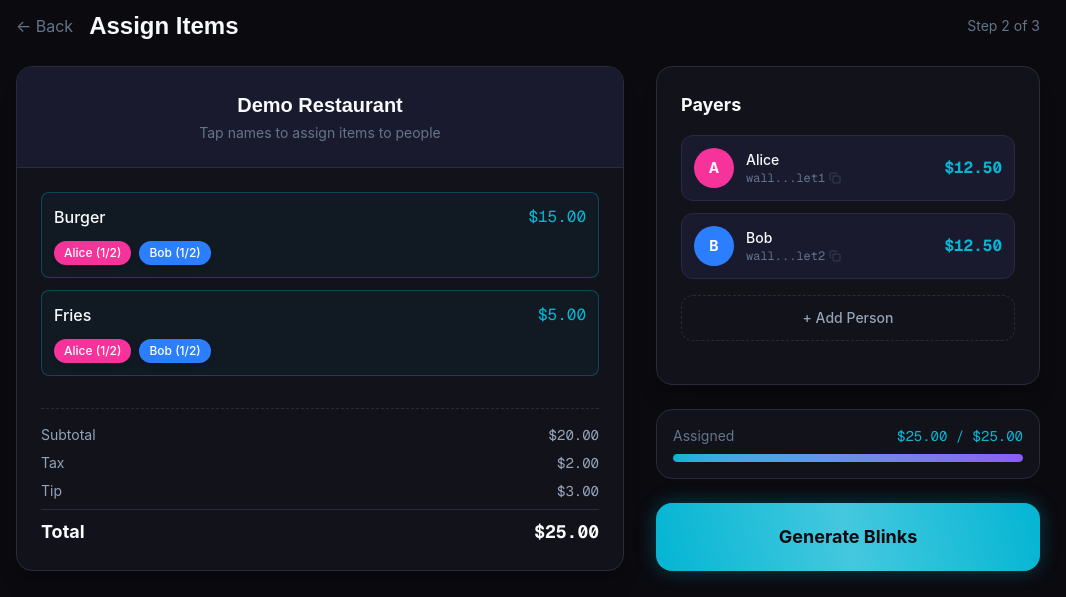
it: SplitPage › handles unassigning all people from an item
Check: the heading "Demo Restaurant" is shown, box x1=237 y1=94 x2=403 y2=116
Click the button "Alice (1/2)" below "Fries": [93, 351] box x1=54 y1=339 x2=131 y2=363
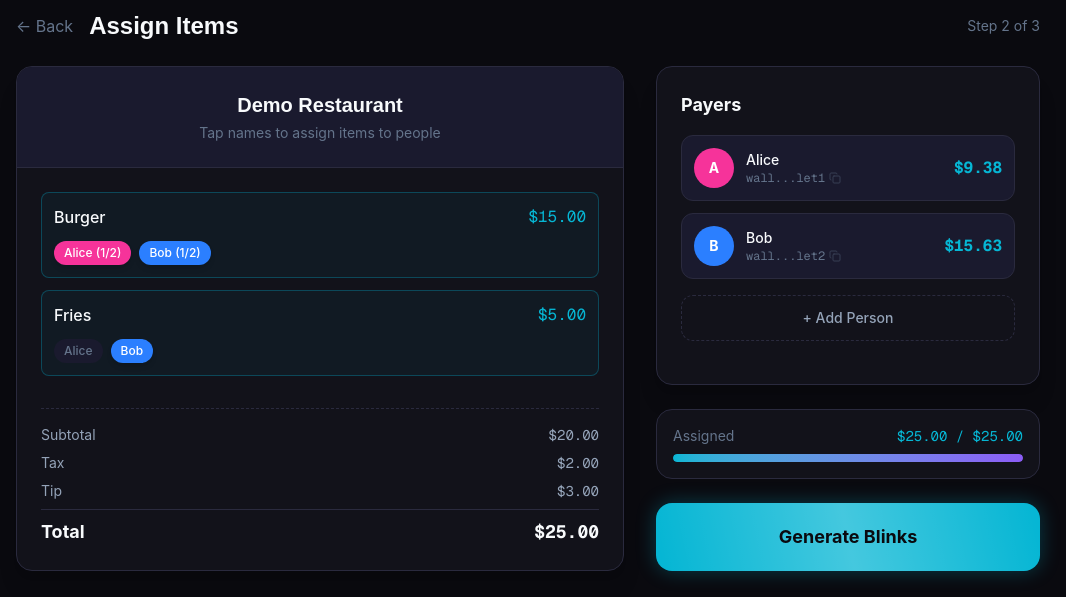
Click the button "Bob": [132, 351] box x1=110 y1=339 x2=153 y2=363
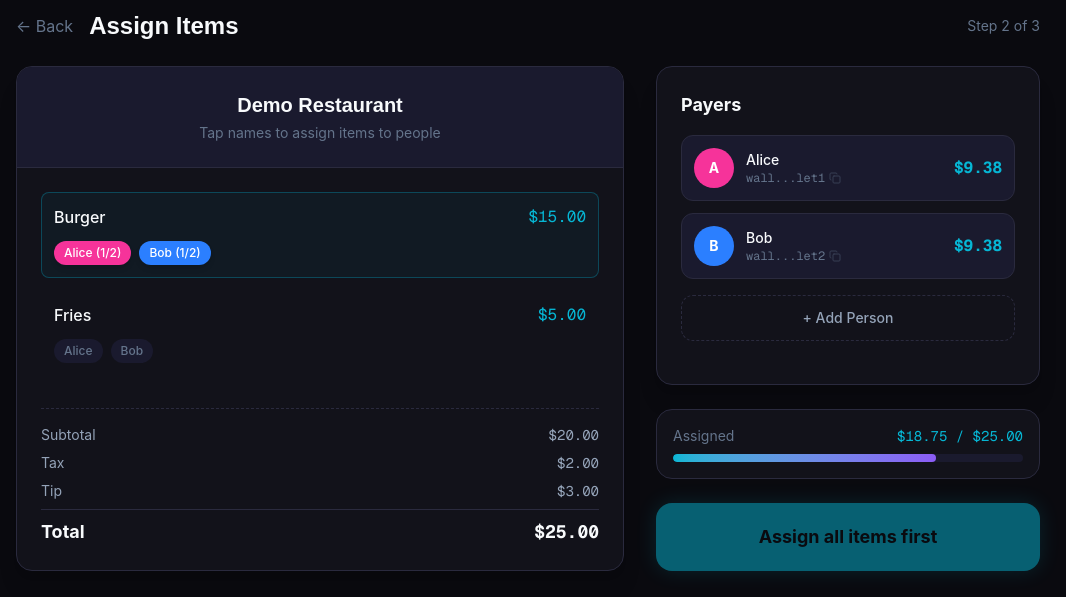
Check: the text "Assign all items first" is shown, box x1=759 y1=526 x2=937 y2=547
Check: the button "Assign all items first" is disabled, box x1=656 y1=503 x2=1040 y2=571
